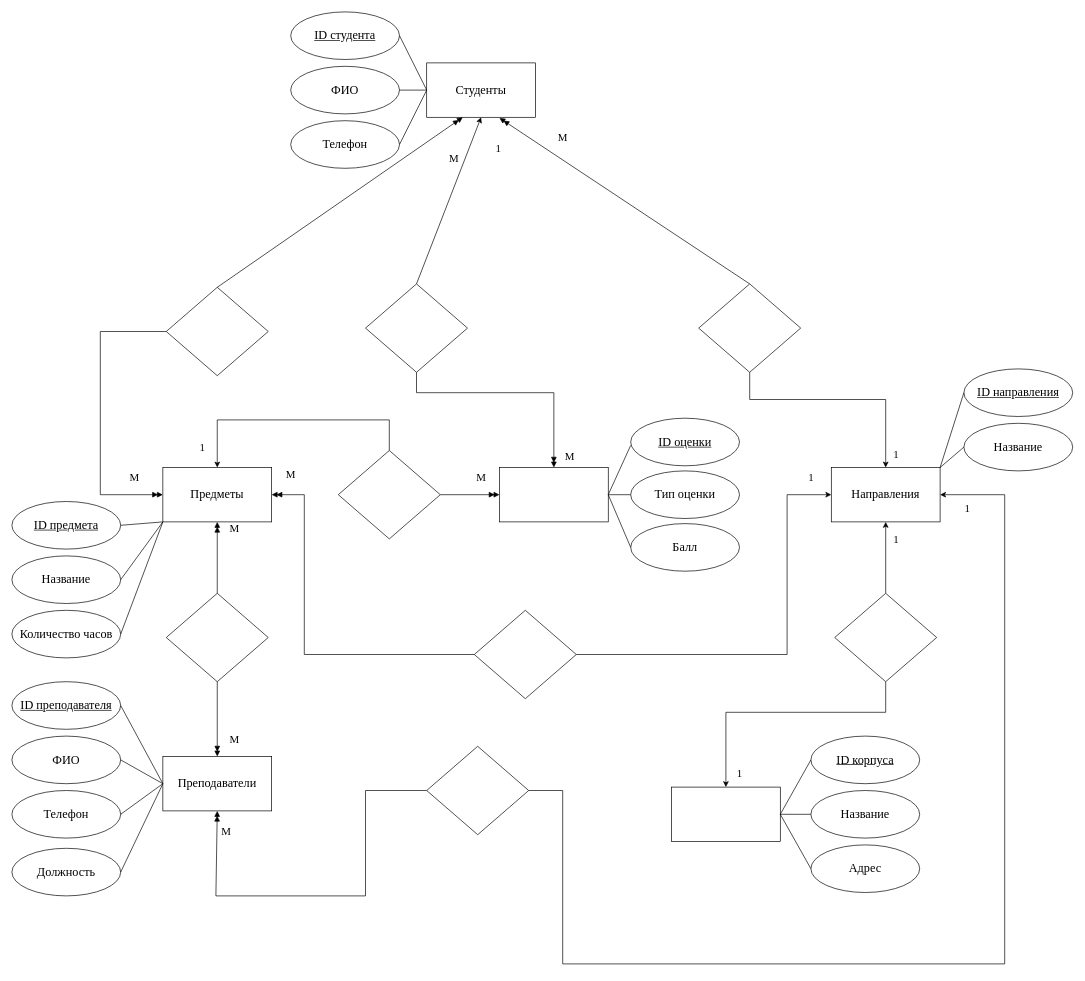
This 1085x981 diagram has some shape labels left out. Here are the shapes that lost their labels. From the top down, the box of each, then its label:
(166, 287, 268, 376): Изучают
(365, 283, 468, 372): Получают
(698, 283, 801, 372): Обучаются
(338, 450, 440, 539): Ставятся
(499, 467, 608, 522): Оценки
(166, 593, 268, 682): Ведут
(474, 610, 576, 699): Имеют
(834, 593, 937, 682): Занимаются
(426, 746, 529, 835): Курируют
(671, 786, 780, 842): Корпусы
